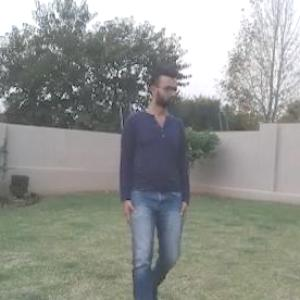follow: (112, 48, 200, 299)
